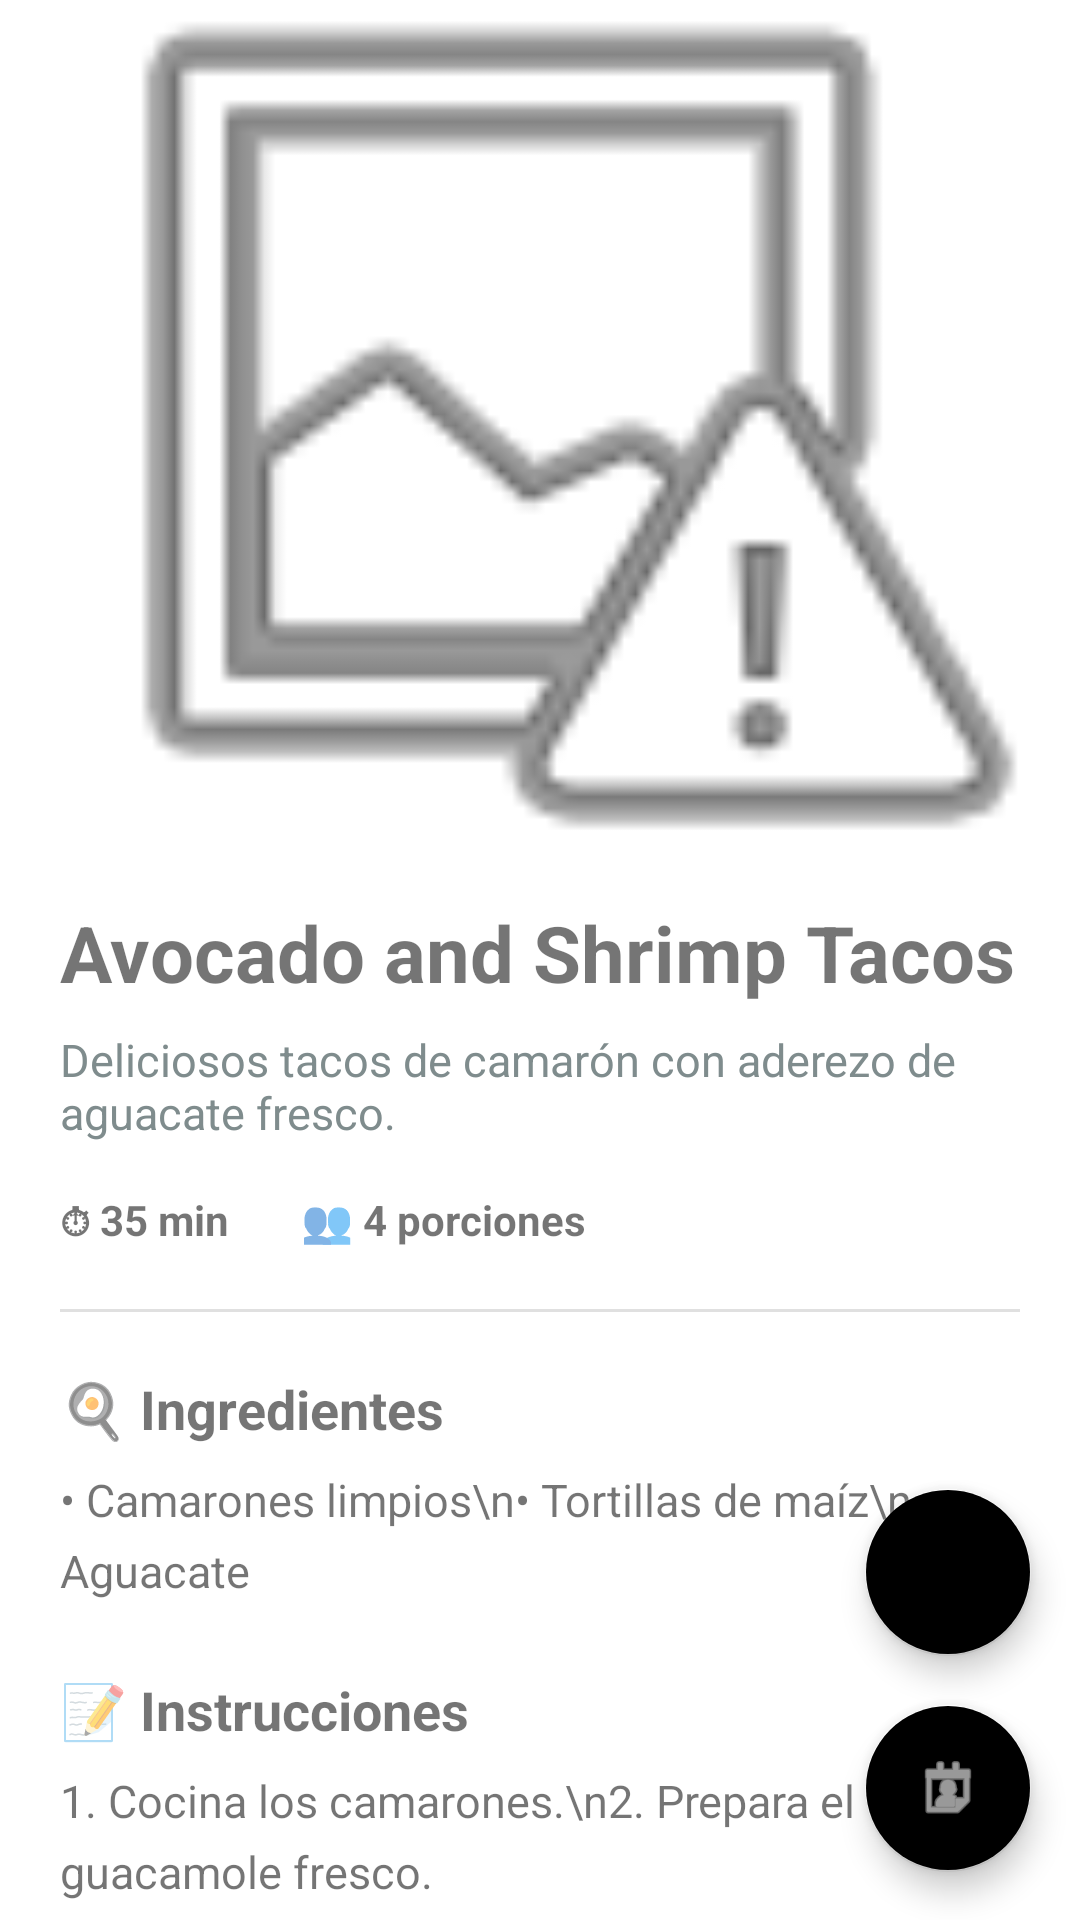

Icon bounding boxes for this 1080px×1920px phone screenshot, format [x1,y1,x2,y2]:
Planificar receta en el menú: [866,1706,1032,1872]
